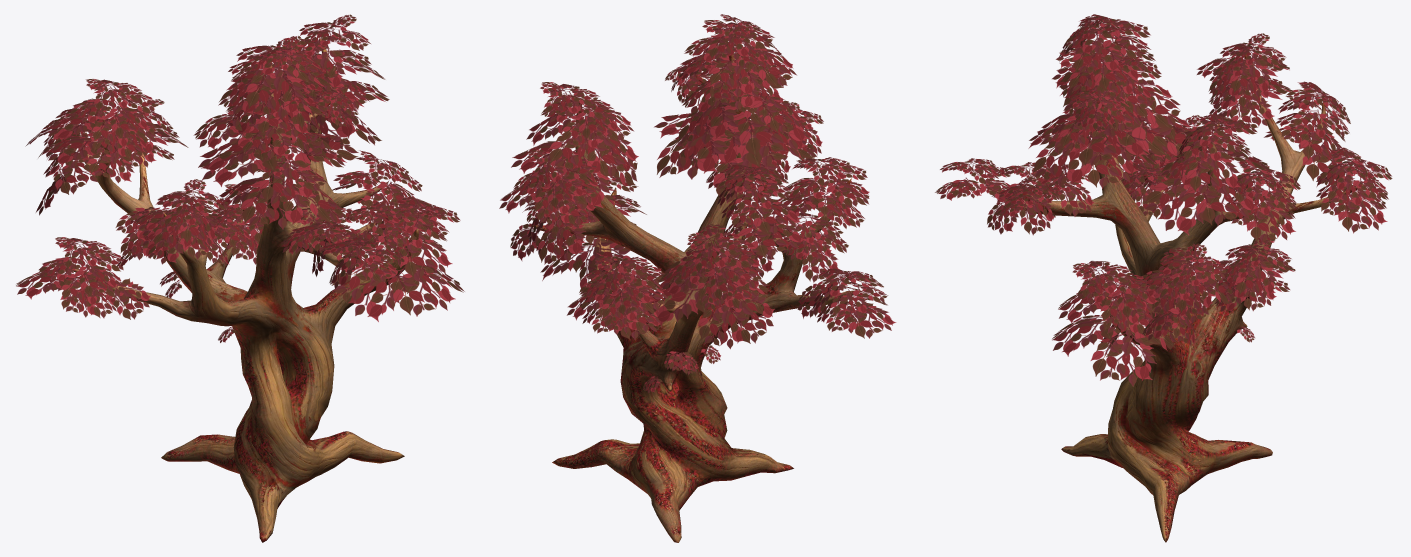
File: Baum.gltf
The picture shows the model from 3 angles, left to right: view 1: azimuth 30°, elevation 25°; view 2: azimuth 150°, elevation 25°; view 3: azimuth 270°, elevation 25°; orthographic projection. The views are drawn at different scales.
Visible parts, largest first — view 1: Char_Tree (×2); view 2: Char_Tree (×2); view 3: Char_Tree (×2).
Boxes of the visible parts, box(x1,y1,x2,y2) form: Char_Tree (×2): box(16, 14, 464, 542); Char_Tree (×2): box(499, 14, 896, 542); Char_Tree (×2): box(935, 14, 1392, 542).
Size of the model in its own units: 19.72 by 21.8 by 20.04.
Materials: 2 (2 with a texture image).
